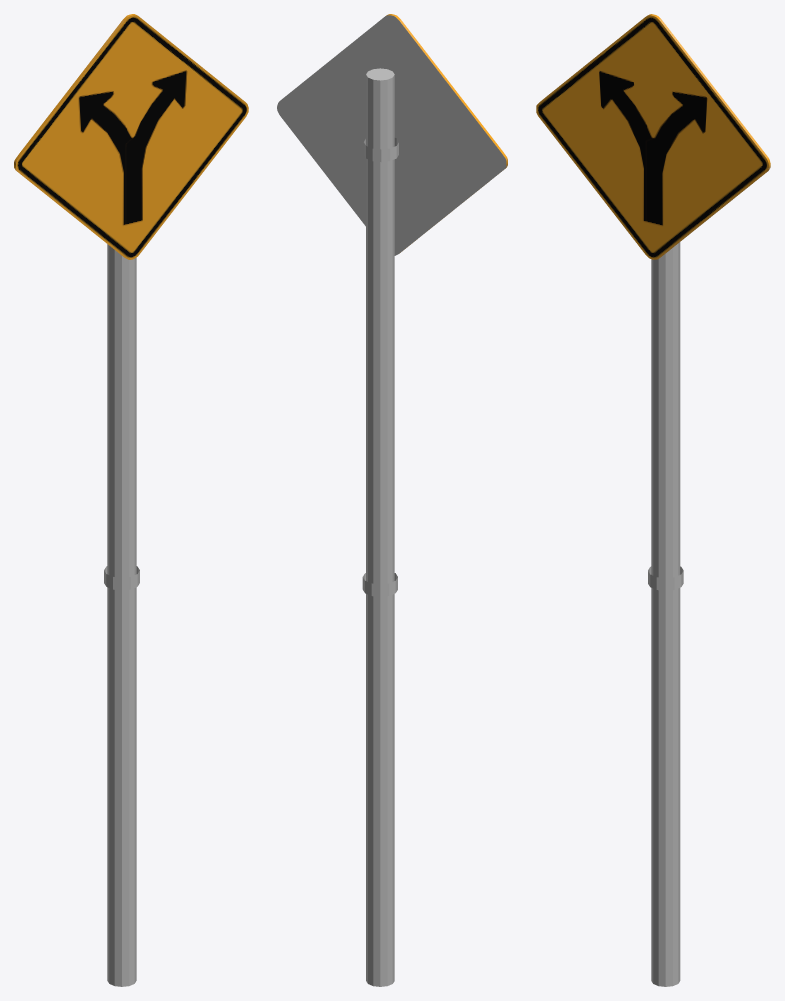
The model's file is SM_warning_sign_02.fbx.
3 views of the same model, side by side, from view 1: azimuth 30°, elevation 25°; view 2: azimuth 150°, elevation 25°; view 3: azimuth 330°, elevation 25° (orthographic).
Visible parts, largest first — view 1: warning_sign_02; view 2: warning_sign_02; view 3: warning_sign_02.
Part boxes in pixels (x1,y1,x2,y2): warning_sign_02: (14,14,248,986); warning_sign_02: (277,14,507,986); warning_sign_02: (536,14,770,986).
Bounding box in the file's own units: 89.78 × 359 × 13.85.
